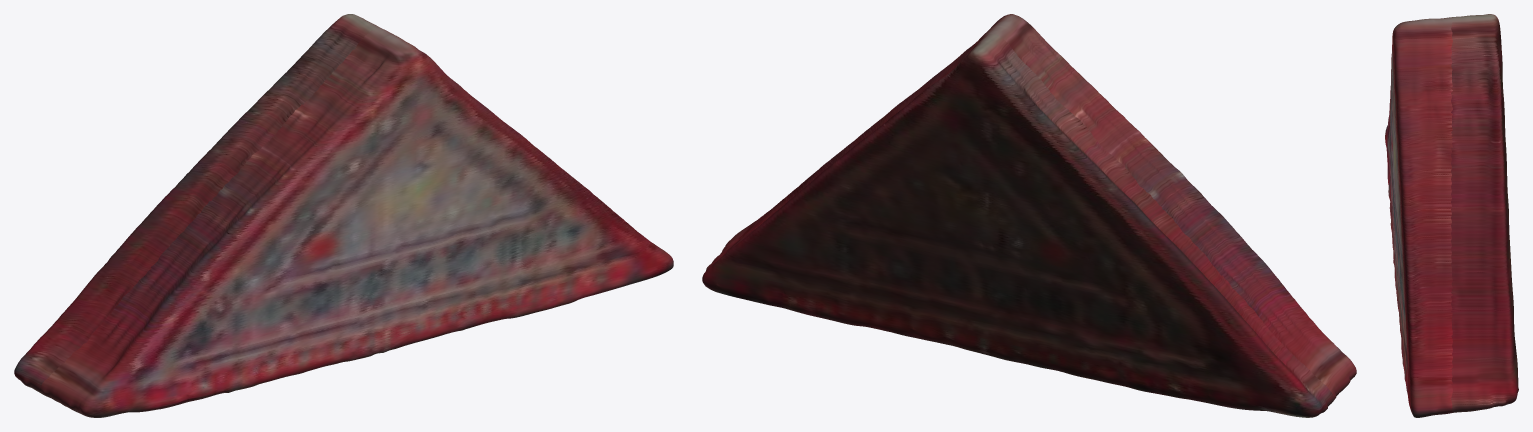
The model's file is kfl-2205.glb.
The picture shows the model from 3 angles, left to right: view 1: azimuth 30°, elevation 25°; view 2: azimuth 150°, elevation 25°; view 3: azimuth 270°, elevation 25°; orthographic projection. The views are drawn at different scales.
Parts seen in each view (by area): view 1: geometry_0; view 2: geometry_0; view 3: geometry_0.
Part boxes in pixels (x1,y1,x2,y2): geometry_0: (14,14,673,417); geometry_0: (702,14,1356,417); geometry_0: (1385,14,1518,417).
Bounding box in the file's own units: 0.9862 × 0.4543 × 0.1973.
1 material, 1 textured.
